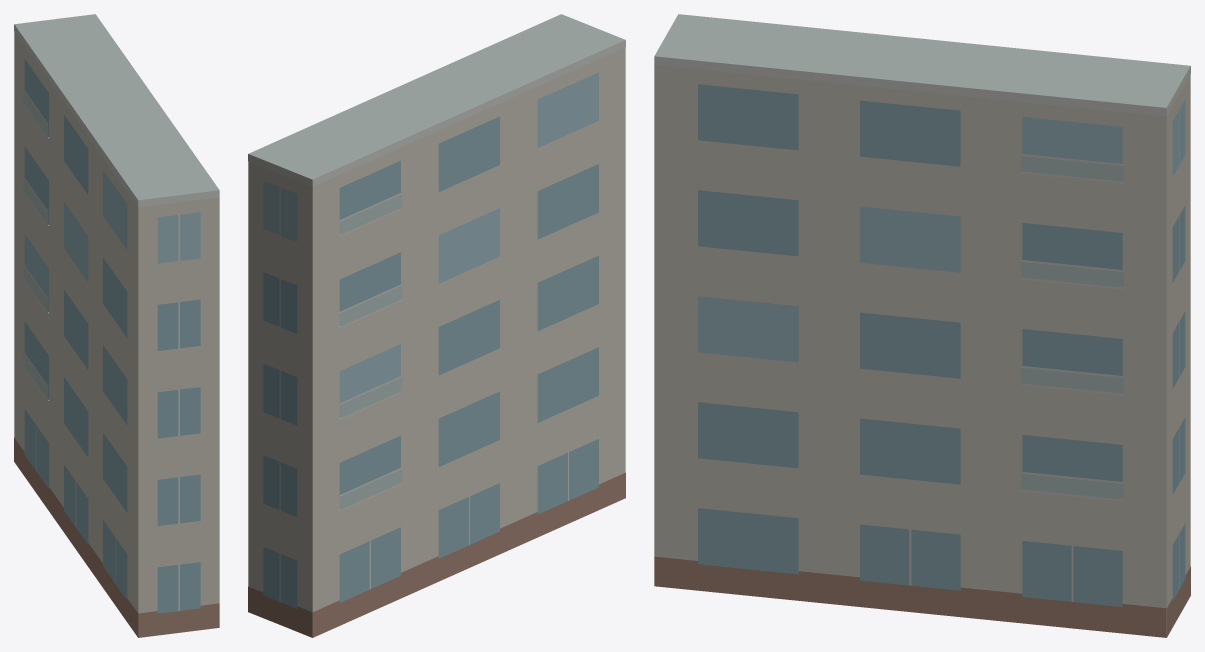
File: survey-upis-32718150.glb
3 renders of one model, left to right at view 1: azimuth 30°, elevation 25°; view 2: azimuth 150°, elevation 25°; view 3: azimuth 270°, elevation 25°, orthographic. The views are drawn at different scales.
Parts seen in each view (by area): view 1: survey-upis-32718150.tmp; view 2: survey-upis-32718150.tmp; view 3: survey-upis-32718150.tmp.
Part boxes in pixels (x1,y1,x2,y2): survey-upis-32718150.tmp: (14, 14, 219, 637); survey-upis-32718150.tmp: (248, 14, 625, 637); survey-upis-32718150.tmp: (654, 14, 1190, 637).
Size of the model in its own units: 5.81 by 15.25 by 14.
